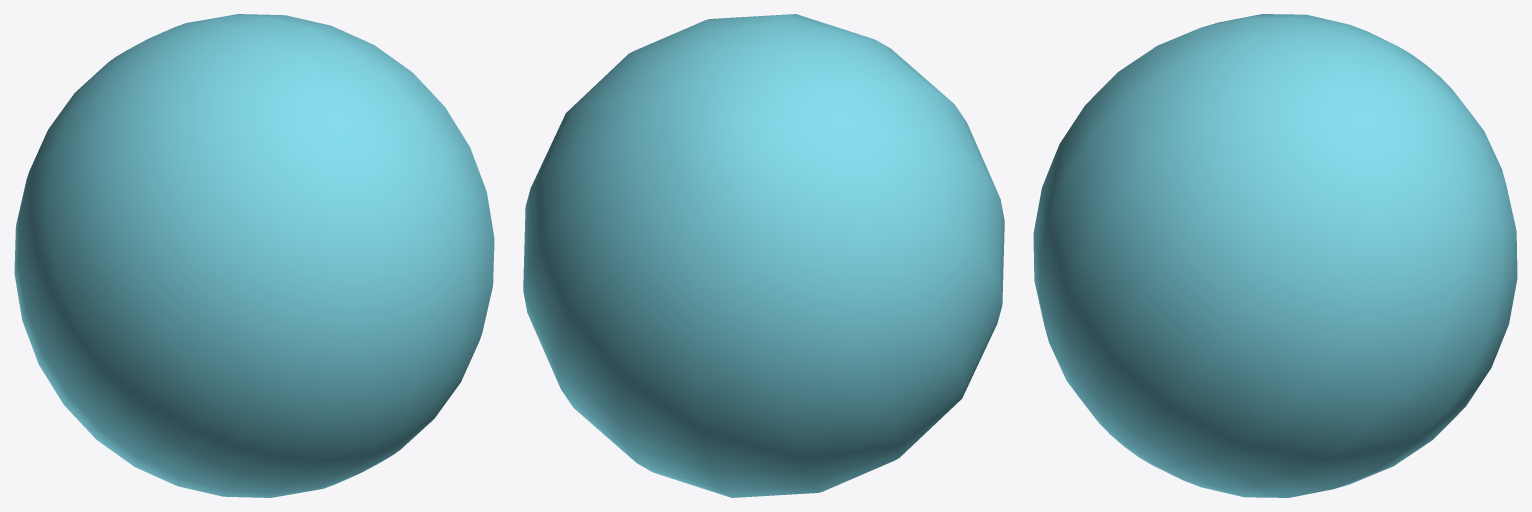
The picture shows the model from 3 angles, left to right: view 1: azimuth 30°, elevation 25°; view 2: azimuth 150°, elevation 25°; view 3: azimuth 270°, elevation 25°; orthographic projection.
Visible parts, largest first — view 1: orb5.002; view 2: orb5.002; view 3: orb5.002.
Boxes of the visible parts, x1,y1,x2,y2 form: orb5.002: [14, 14, 494, 497]; orb5.002: [523, 14, 1004, 497]; orb5.002: [1033, 14, 1517, 497].
Bounding box in the file's own units: 0.3929 × 0.3982 × 0.3978.
